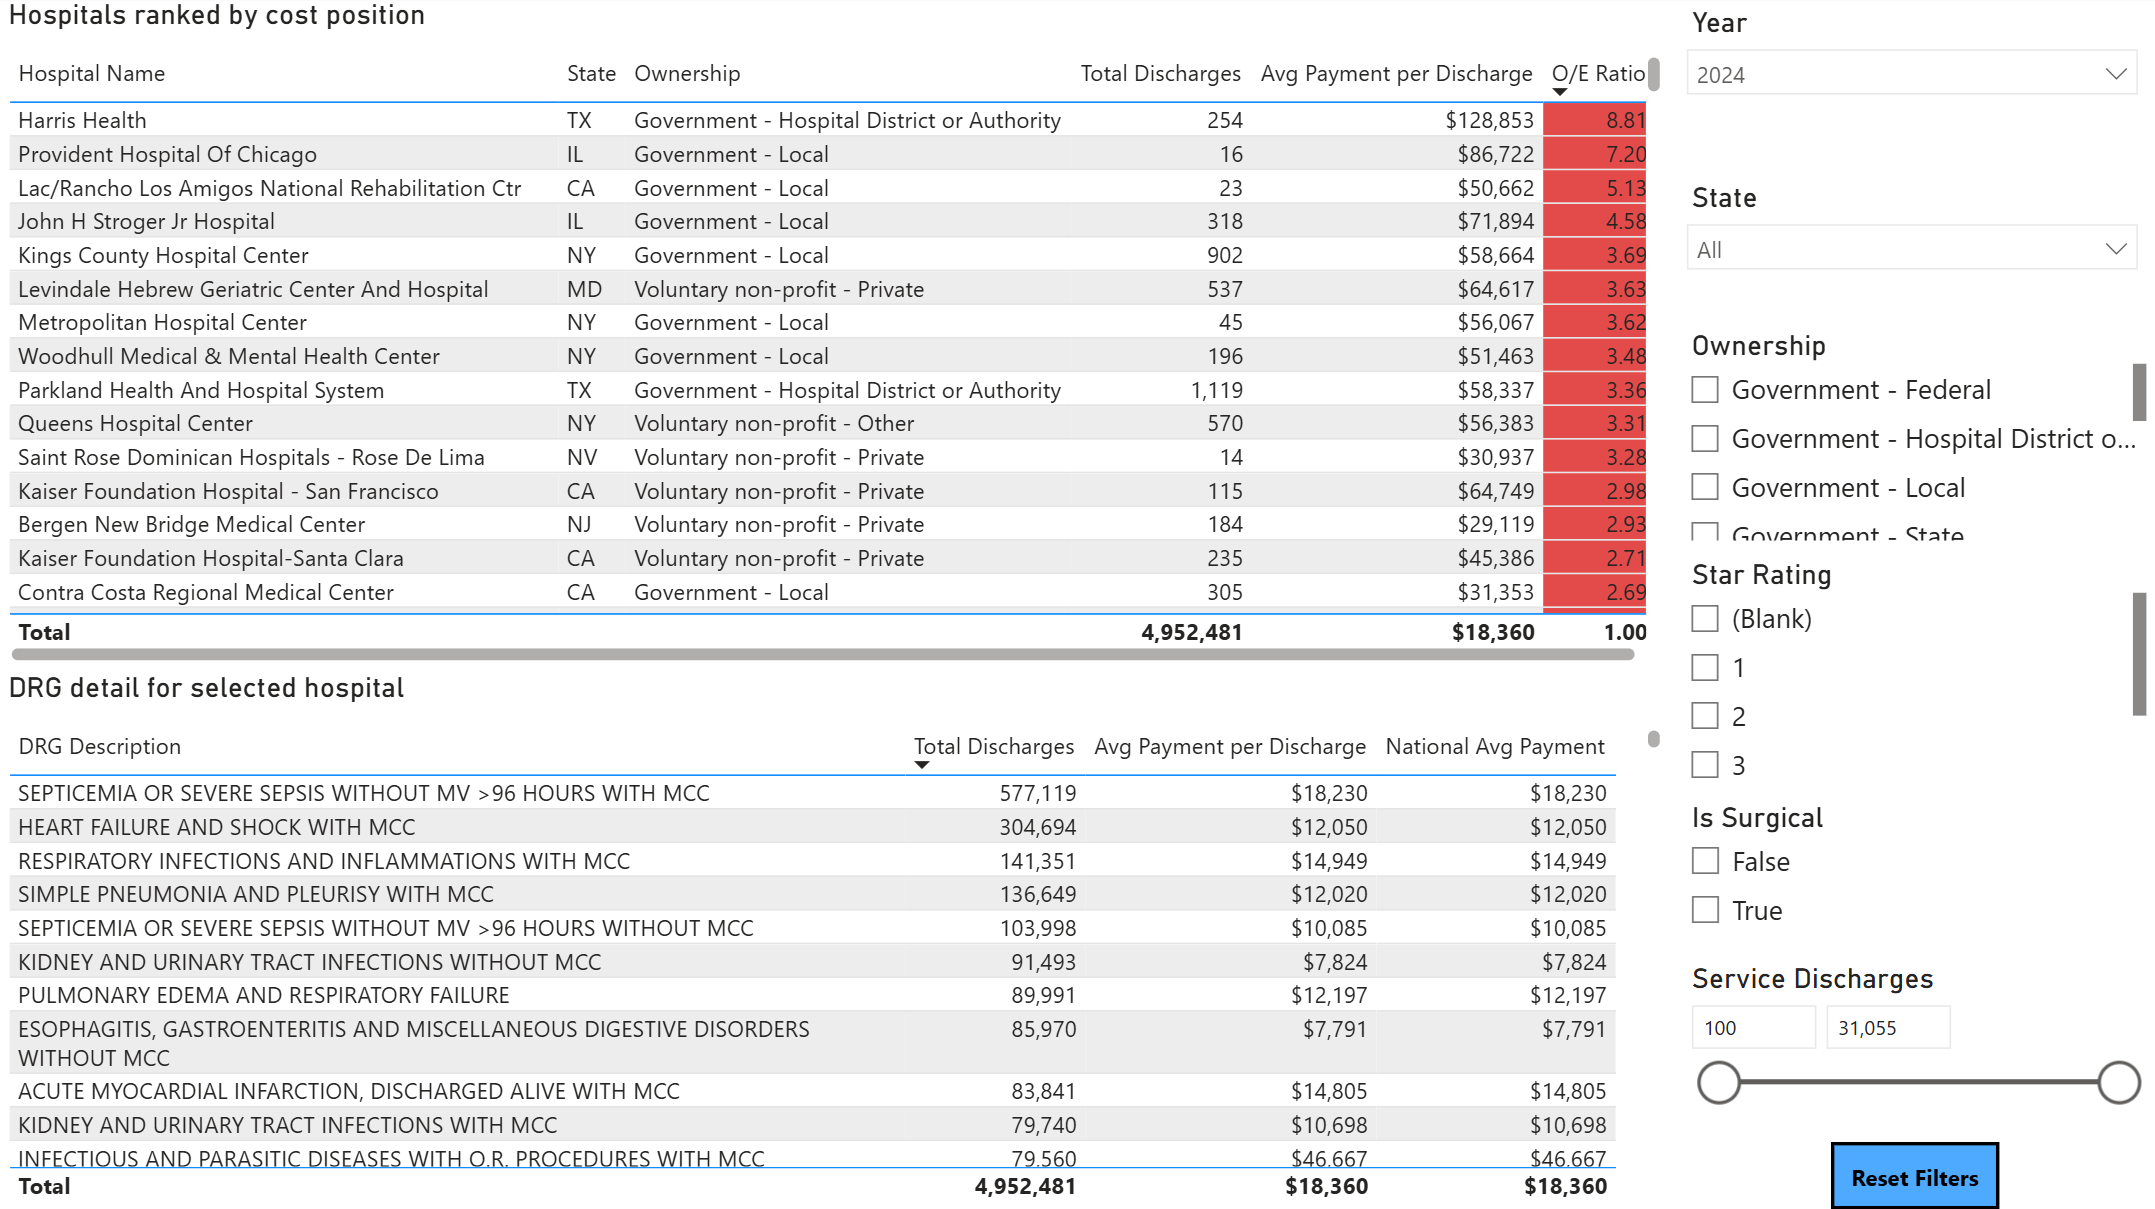

What the dashboard file says about the page in this screenshot:
{"tool":"powerbi","page":{"name":"Cost Variation","canvas":[1280,720],"ordinal":3},"visuals":[{"type":"tableEx","title":"Hospitals ranked by cost position","fields":{"Values":["dim_hospital.Hospital Name","dim_hospital.State","dim_hospital.Ownership","_Measures.Total Discharges","_Measures.Avg Payment per Discharge","_Measures.O/E Ratio"]},"box":[0,0,992,400],"z":0},{"type":"slicer","fields":{"Values":["fact_hospital_year.Service Discharges"]},"box":[992,568,288,152],"z":1000},{"type":"slicer","fields":{"Values":["dim_hospital.State"]},"box":[992,104,288,88],"z":2000},{"type":"slicer","fields":{"Values":["dim_year.Year"]},"box":[992,0,288,104],"z":3000},{"type":"tableEx","title":"DRG detail for selected hospital","fields":{"Values":["dim_drg.DRG Description","_Measures.Total Discharges","_Measures.Avg Payment per Discharge","_Measures.National Avg Payment"]},"box":[0,400,992,320],"z":4000},{"type":"slicer","fields":{"Values":["dim_hospital.Ownership"]},"box":[992,192,288,136],"z":5000},{"type":"slicer","fields":{"Values":["dim_hospital.Star Rating"]},"box":[992,328,288,144],"z":6000},{"type":"slicer","fields":{"Values":["dim_drg.Is Surgical"]},"box":[992,472,288,96],"z":7000},{"type":"actionButton","box":[1088,680,100,40],"z":7002}]}

Visuals, with their boxes on the page's 1280x720 design canvas (x1, y1, x2, y2). These are canvas units, not pixel positions in the 2155x1209 screenshot, which may show the page scaled, cropped or inside an application window:
"Hospitals ranked by cost position" tableEx: [left=0, top=0, right=992, bottom=400]
slicer - fact_hospital_year.Service Discharges: [left=992, top=568, right=1280, bottom=720]
slicer - dim_hospital.State: [left=992, top=104, right=1280, bottom=192]
slicer - dim_year.Year: [left=992, top=0, right=1280, bottom=104]
"DRG detail for selected hospital" tableEx: [left=0, top=400, right=992, bottom=720]
slicer - dim_hospital.Ownership: [left=992, top=192, right=1280, bottom=328]
slicer - dim_hospital.Star Rating: [left=992, top=328, right=1280, bottom=472]
slicer - dim_drg.Is Surgical: [left=992, top=472, right=1280, bottom=568]
actionButton: [left=1088, top=680, right=1188, bottom=720]
